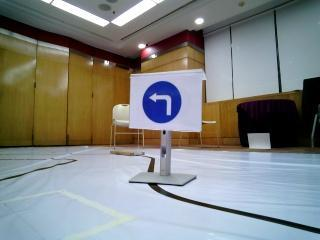left: (129, 72, 200, 129)
